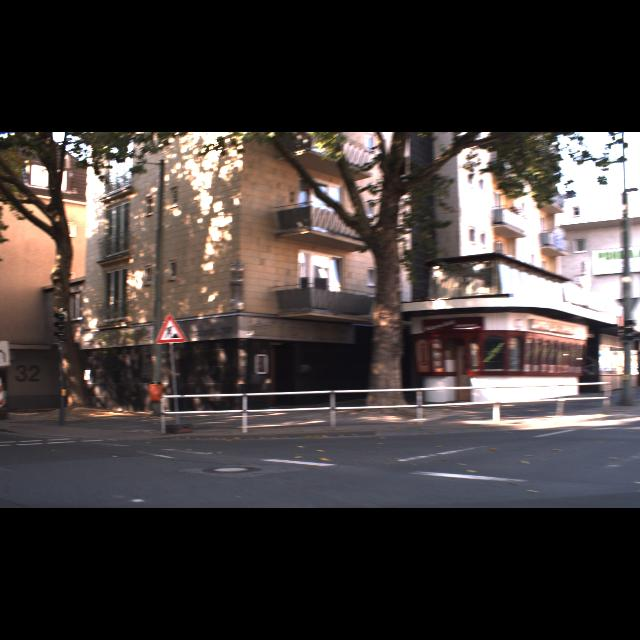danger: (154, 314, 188, 344)
